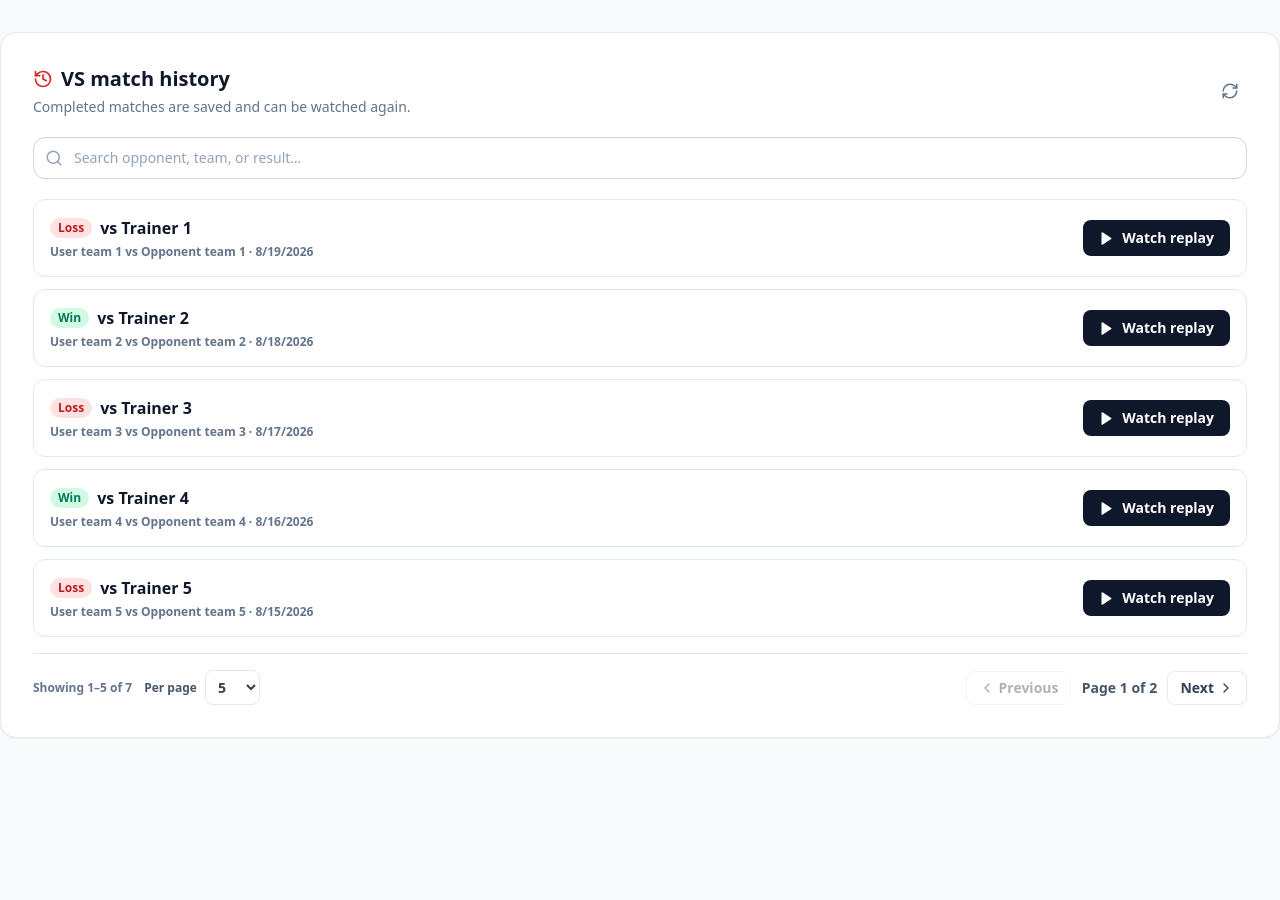
Test: VsMatchHistory search and pagination › loads the maximum supported history and pages through five replays at a time
Expected: the heading "vs Trainer 1" is shown, [100,216,192,240]
Expected: the heading "vs Trainer 5" is shown, [100,576,192,600]
Click the button with aria-label "Next replays page" at (1207, 688), box [1168,670,1247,704]
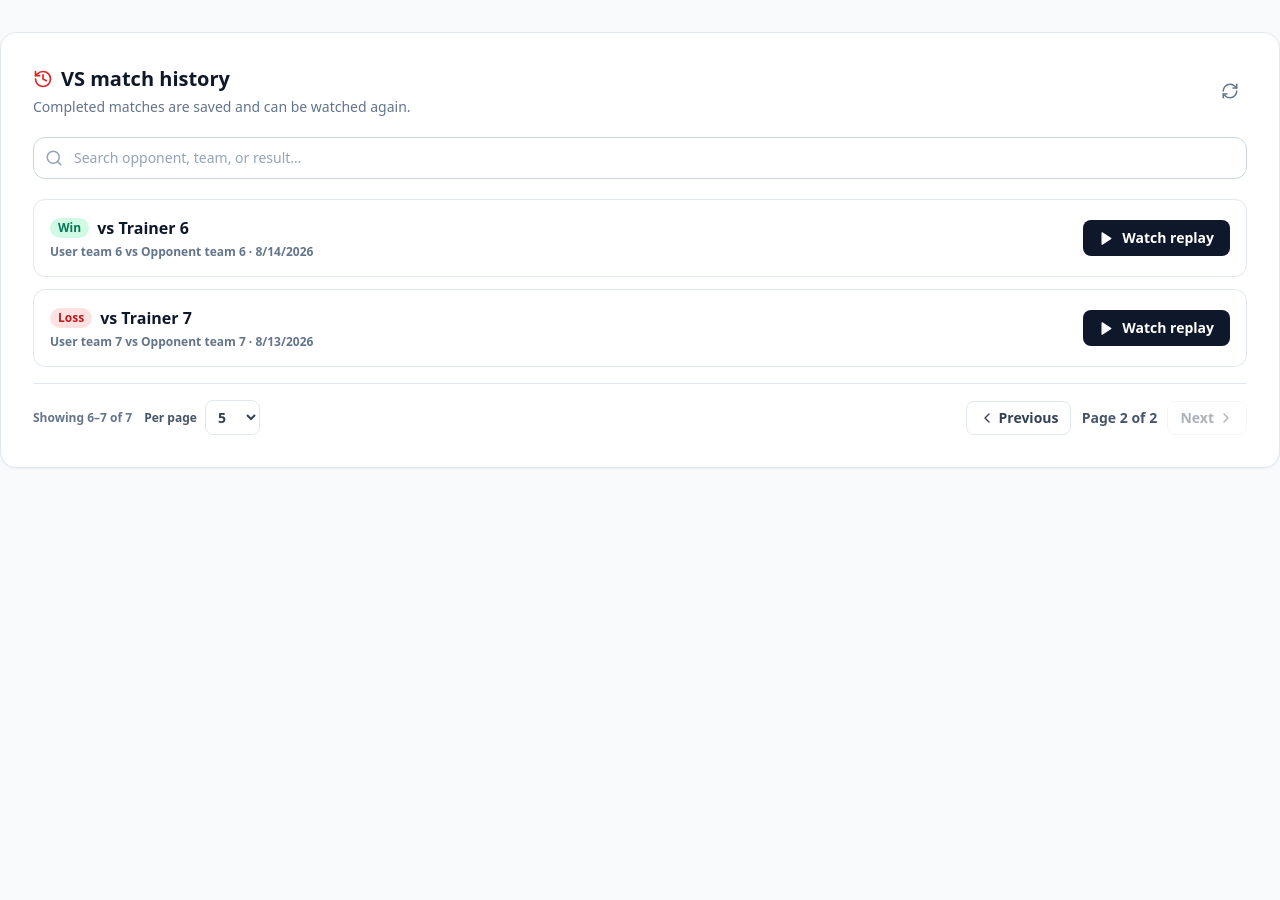
Expected: the heading "vs Trainer 6" is shown, [97,216,189,240]
Expected: the heading "vs Trainer 7" is shown, [100,306,192,330]
Expected: the heading "vs Trainer 1" is gone
Select "10" in the dropdown named "replays per page" at (232, 418), box [205,400,260,435]
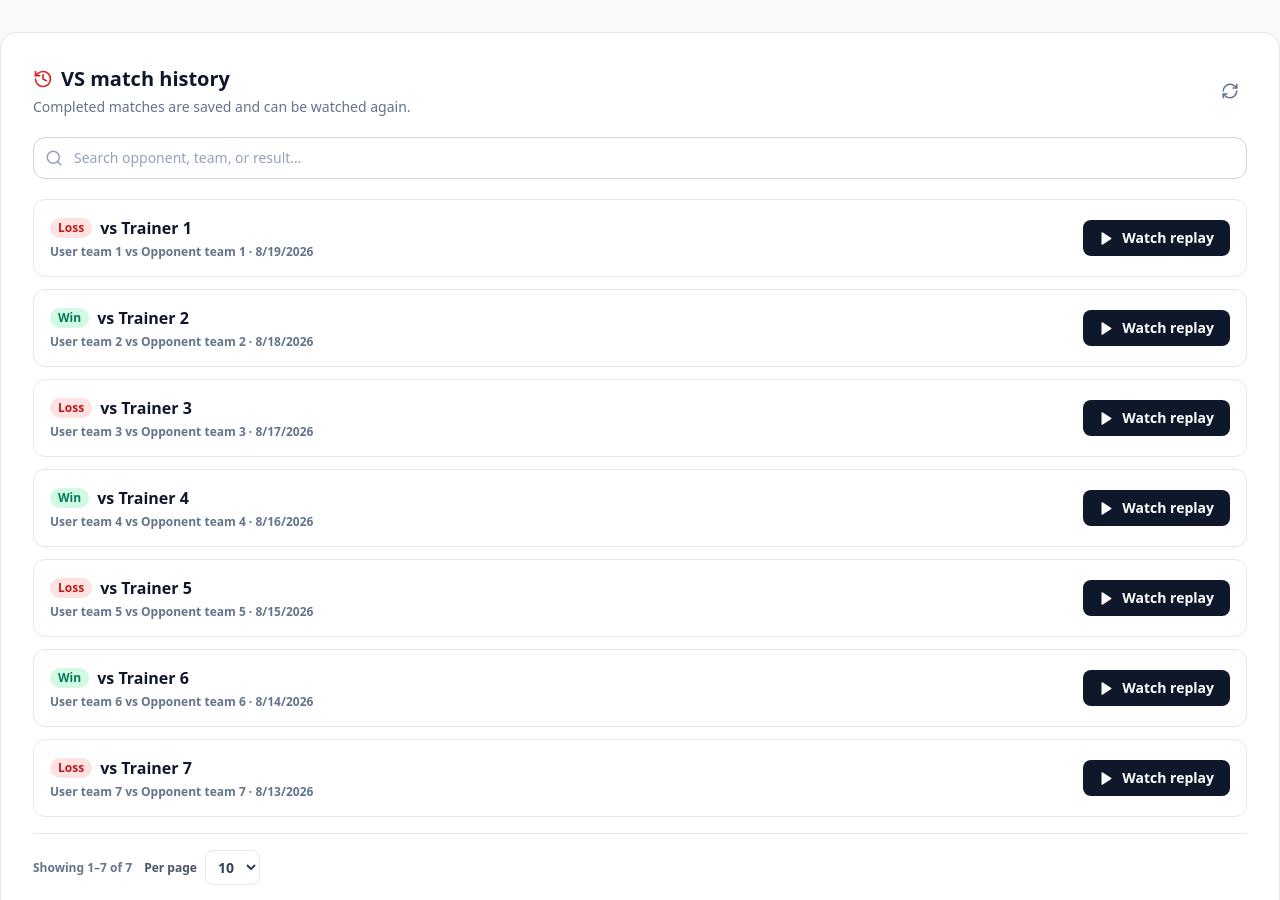
Expected: the heading "vs Trainer 7" is shown, [100,756,192,780]
Expected: the heading "vs Trainer 1" is shown, [100,216,192,240]
Expected: the text "Page 2 of 2" is gone
